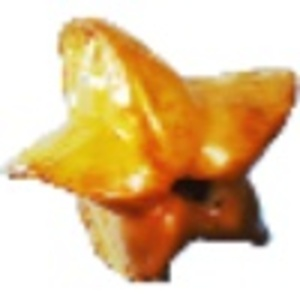carambola: (1, 15, 300, 286)
